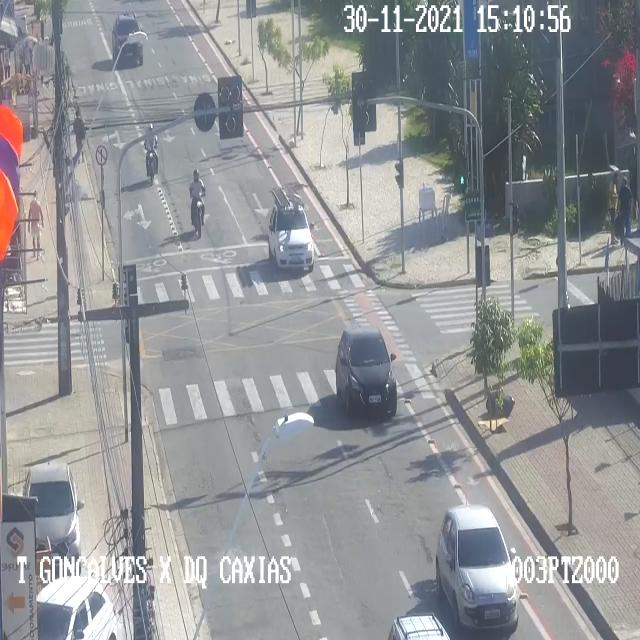Car: (436, 505, 518, 630), (25, 462, 81, 572), (335, 326, 396, 414), (36, 576, 116, 639), (267, 202, 313, 270), (382, 600, 450, 640), (112, 15, 142, 63)
Motorcycle: (189, 169, 205, 237), (144, 123, 158, 183)
